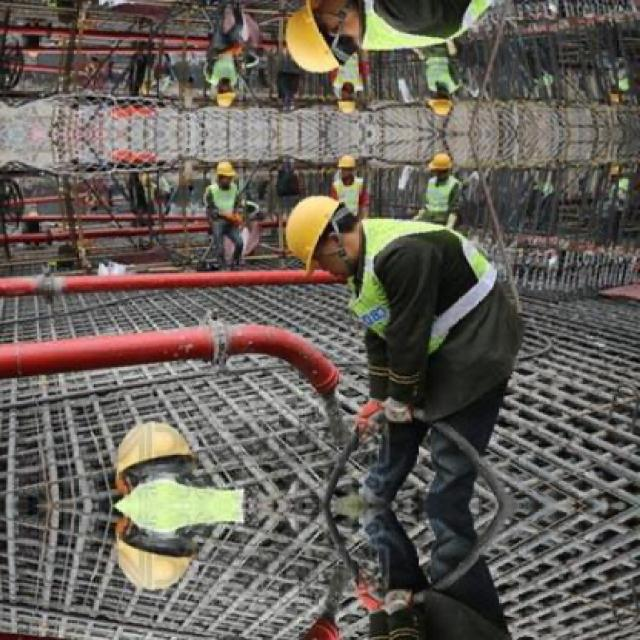helmet: (108, 416, 204, 496), (108, 515, 204, 595), (286, 191, 369, 276), (285, 0, 369, 79), (428, 154, 454, 185), (428, 83, 454, 114), (217, 156, 235, 190), (217, 78, 235, 112), (338, 153, 357, 185), (338, 85, 357, 117)
